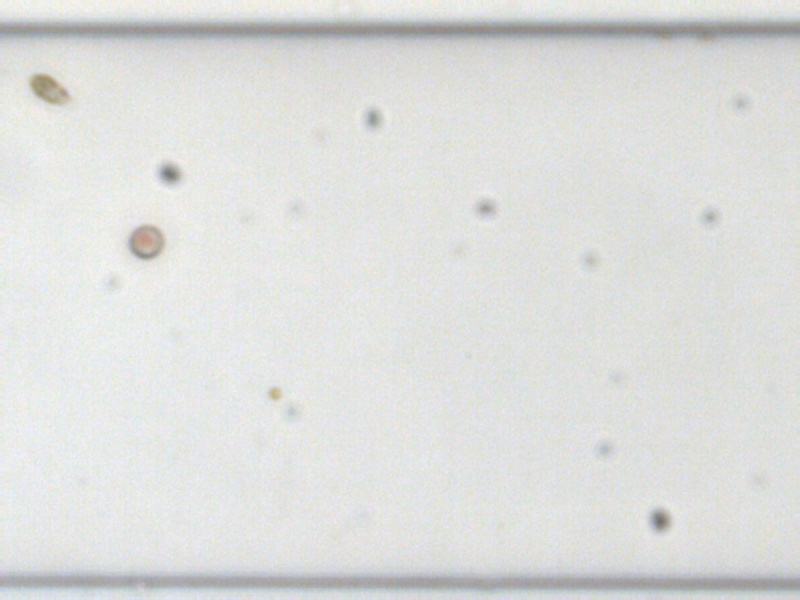Chlorella: (268, 384, 282, 400)
Dunaliella salina: (25, 69, 72, 109)
Porphyridium: (124, 220, 166, 261)
